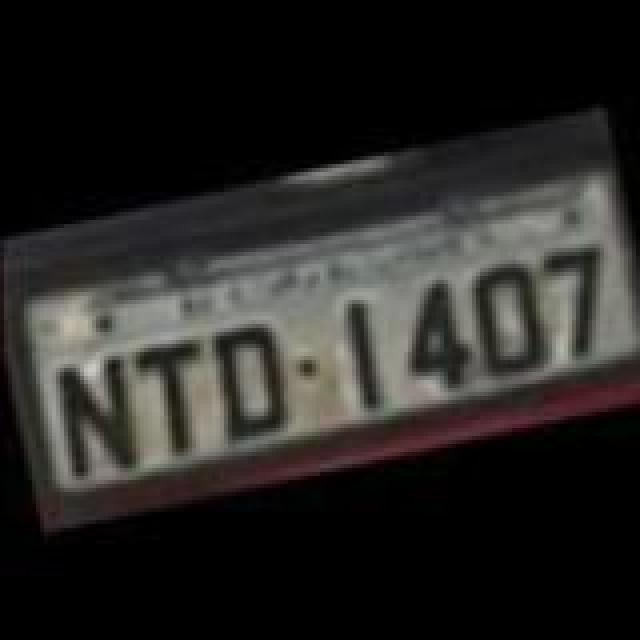1: (328, 296, 396, 420)
4: (388, 274, 480, 406)
7: (532, 234, 624, 358)
D: (204, 310, 296, 442)
N: (44, 348, 148, 484)
O: (460, 252, 552, 384)
T: (122, 334, 222, 462)
